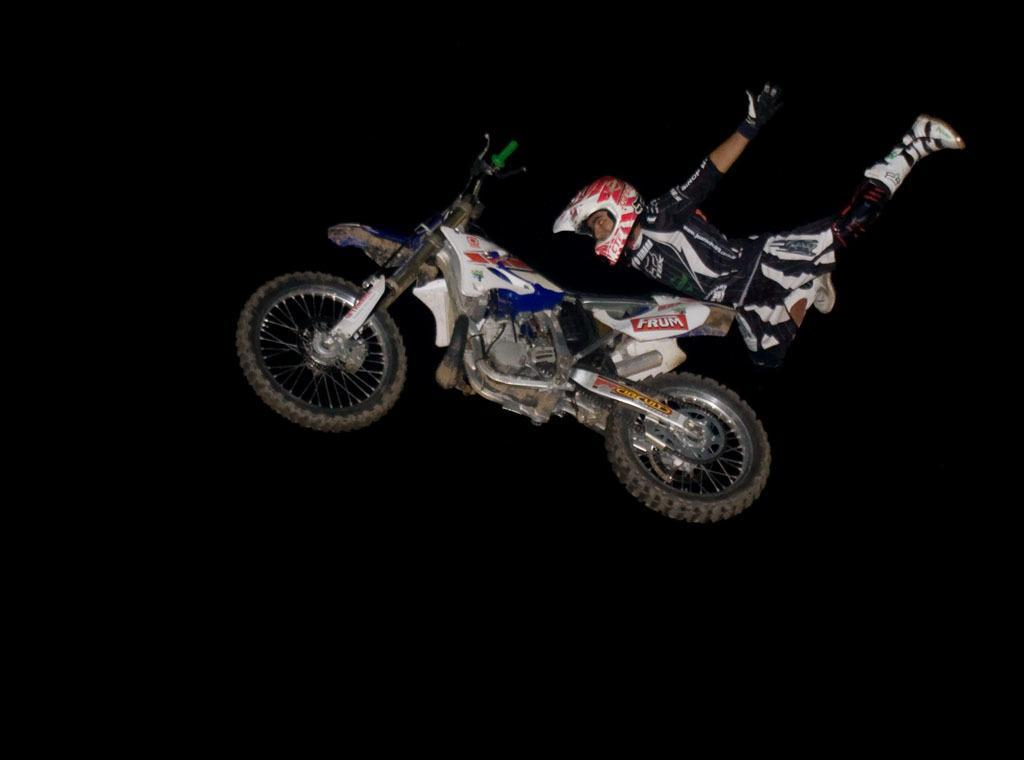helmet: (552, 174, 647, 273)
